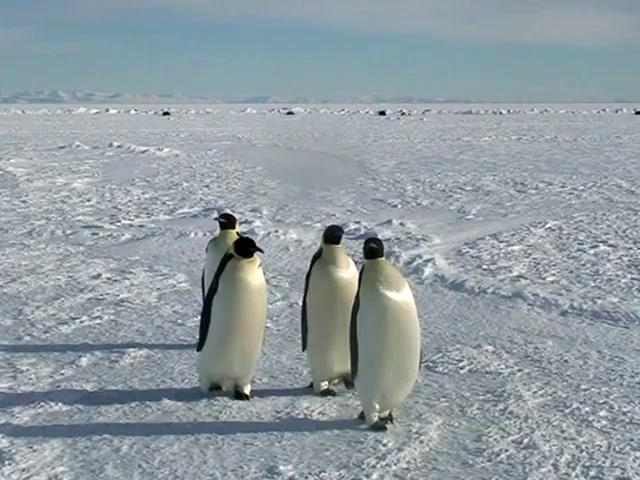animal: (350, 237, 420, 430)
